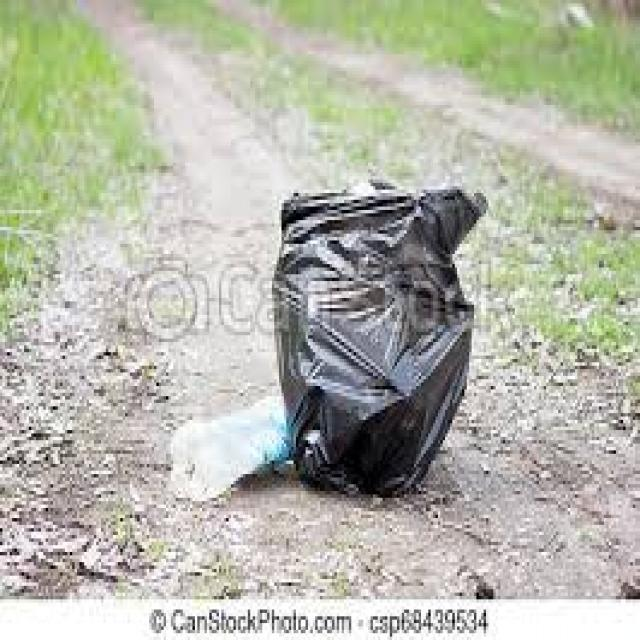plastic_bag: (271, 157, 485, 482)
